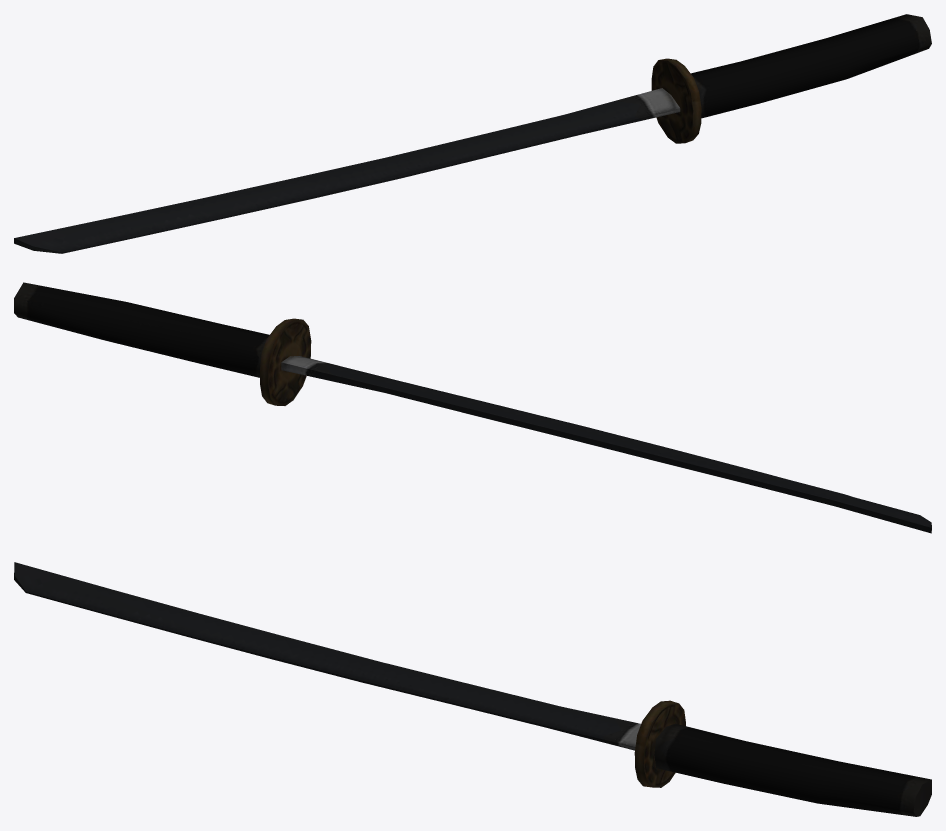
The model's file is w_katana.glb.
3 views of the same model, one above another, from view 1: azimuth 30°, elevation 25°; view 2: azimuth 150°, elevation 25°; view 3: azimuth 330°, elevation 25° (orthographic). The views are drawn at different scales.
Parts seen in each view (by area): view 1: headusOBJexport; view 2: headusOBJexport; view 3: headusOBJexport.
Boxes of the visible parts, bbox=[...] form: headusOBJexport: bbox=[14, 14, 931, 253]; headusOBJexport: bbox=[14, 282, 931, 533]; headusOBJexport: bbox=[14, 562, 931, 816].
Bounding box in the file's own units: 4.58 × 0.3762 × 0.3687.
Materials: 1 (1 with a texture image).
